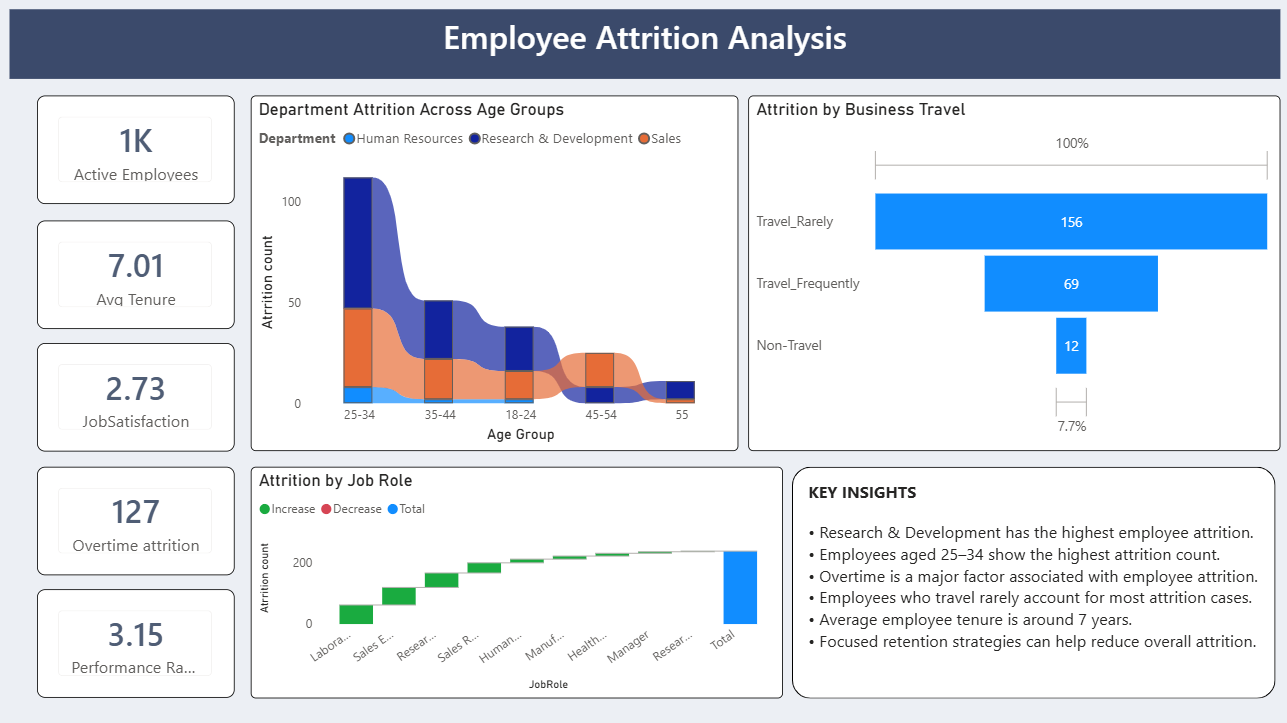

The dashboard page shown, as its layout file describes it:
{"tool":"powerbi","page":{"name":"Page 2","canvas":[1280,720],"ordinal":1},"visuals":[{"type":"shape","box":[784.9,462.4,477.5,229.2],"z":0},{"type":"cardVisual","fields":{"Data":["HR_Project_Power BI (1).Active Employees"]},"box":[39.8,96.1,194.9,107],"z":1000},{"type":"cardVisual","fields":{"Data":["Avg(HR_Project_Power BI (1).JobSatisfaction)"]},"box":[39.8,340.3,194.9,107],"z":2000},{"type":"cardVisual","fields":{"Data":["HR_Project_Power BI (1).Overtime attrition"]},"box":[39.8,462.4,194.9,107],"z":3000},{"type":"cardVisual","fields":{"Data":["HR_Project_Power BI (1).Average Performance Rating"]},"box":[39.8,584.6,194.9,107],"z":4000},{"type":"cardVisual","fields":{"Data":["HR_Project_Power BI (1).Avg Years At Company"]},"box":[39.8,219.6,194.9,107],"z":5000},{"type":"textbox","box":[12.3,11,1255.6,68.6],"z":6000},{"type":"ribbonChart","title":"Department Attrition Across Age Groups","fields":{"Category":["HR_Project_Power BI (1).Age Group"],"Series":["HR_Project_Power BI (1).Department"],"Y":["HR_Project_Power BI (1).Atrrition count"]},"box":[251.1,96.1,481.6,351.3],"z":7000},{"type":"funnel","title":"Attrition by Business Travel","fields":{"Category":["HR_Project_Power BI (1).BusinessTravel"],"Y":["HR_Project_Power BI (1).Atrrition count"]},"box":[742.4,96.1,525.6,351.3],"z":8000},{"type":"waterfallChart","title":"Attrition by Job Role","fields":{"Category":["HR_Project_Power BI (1).JobRole"],"Y":["HR_Project_Power BI (1).Atrrition count"]},"box":[251.1,462.4,525.6,229.2],"z":9000},{"type":"textbox","box":[795.9,472,472,219.6],"z":11000}]}

Visuals, with their boxes in screenshot pixels (x1, y1, x2, y2), scaled from the page's 1280x720 canvas onto the 1287x723 screenshot:
shape: <bbox>789, 464, 1269, 694</bbox>
cardVisual - HR_Project_Power BI (1).Active Employees: <bbox>40, 97, 236, 204</bbox>
cardVisual - Avg(HR_Project_Power BI (1).JobSatisfaction): <bbox>40, 342, 236, 449</bbox>
cardVisual - HR_Project_Power BI (1).Overtime attrition: <bbox>40, 464, 236, 572</bbox>
cardVisual - HR_Project_Power BI (1).Average Performance Rating: <bbox>40, 587, 236, 694</bbox>
cardVisual - HR_Project_Power BI (1).Avg Years At Company: <bbox>40, 221, 236, 328</bbox>
textbox: <bbox>12, 11, 1275, 80</bbox>
"Department Attrition Across Age Groups" ribbonChart: <bbox>252, 97, 737, 449</bbox>
"Attrition by Business Travel" funnel: <bbox>746, 97, 1275, 449</bbox>
"Attrition by Job Role" waterfallChart: <bbox>252, 464, 781, 694</bbox>
textbox: <bbox>800, 474, 1275, 694</bbox>
